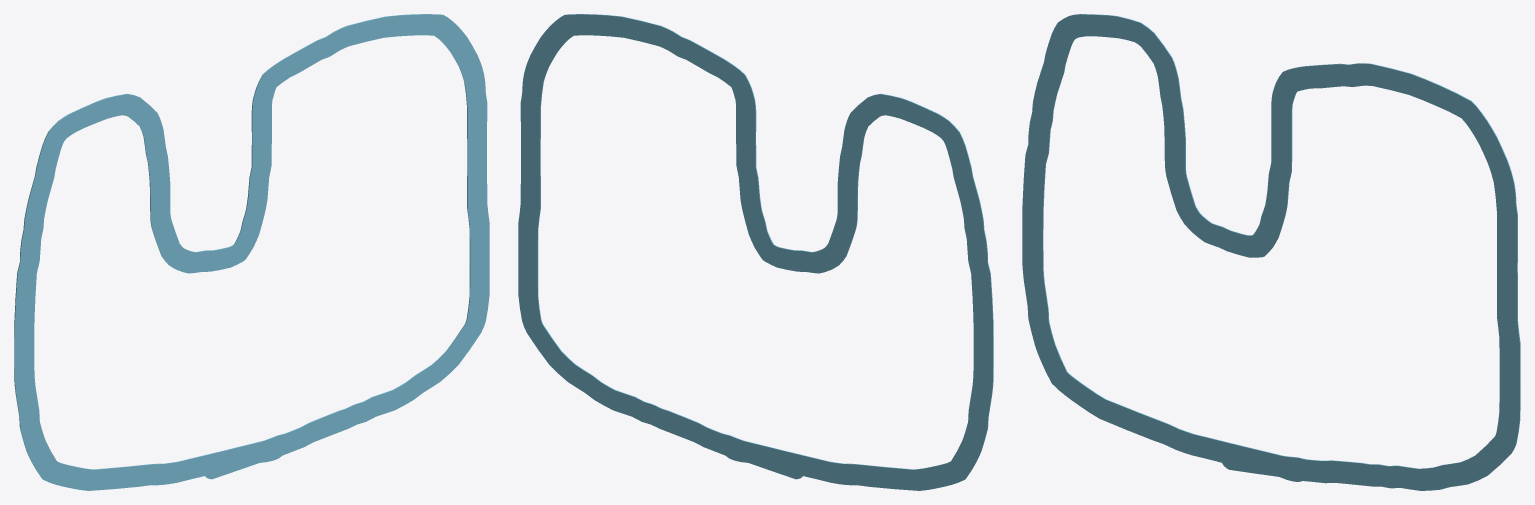
Rendered from tinker.obj.
3 views of the same model, side by side, from view 1: azimuth 30°, elevation 25°; view 2: azimuth 150°, elevation 25°; view 3: azimuth 330°, elevation 25° (orthographic). The views are drawn at different scales.
Parts seen in each view (by area): view 1: obj_0; view 2: obj_0; view 3: obj_0.
Boxes of the visible parts, bbox=[...] form: obj_0: bbox=[14, 14, 489, 490]; obj_0: bbox=[518, 14, 993, 490]; obj_0: bbox=[1022, 14, 1520, 490].
Size of the model in its own units: 48.48 by 41 by 0.1.
